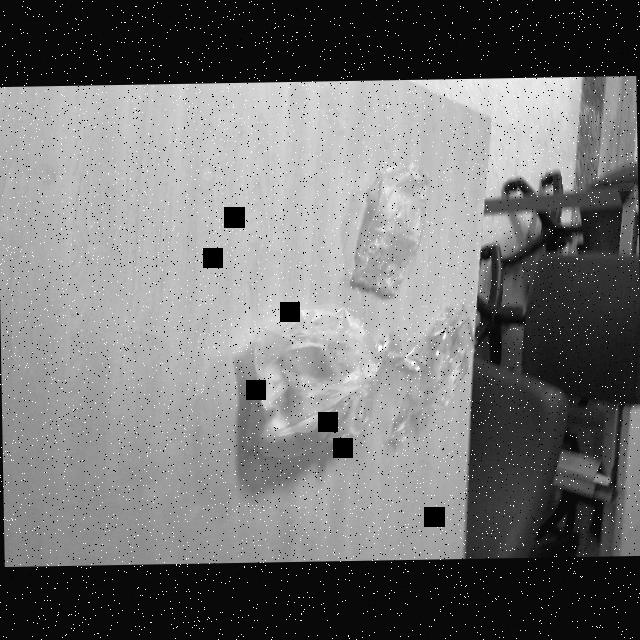plastic_bag: (230, 294, 384, 470), (374, 294, 488, 451), (340, 157, 439, 303)
